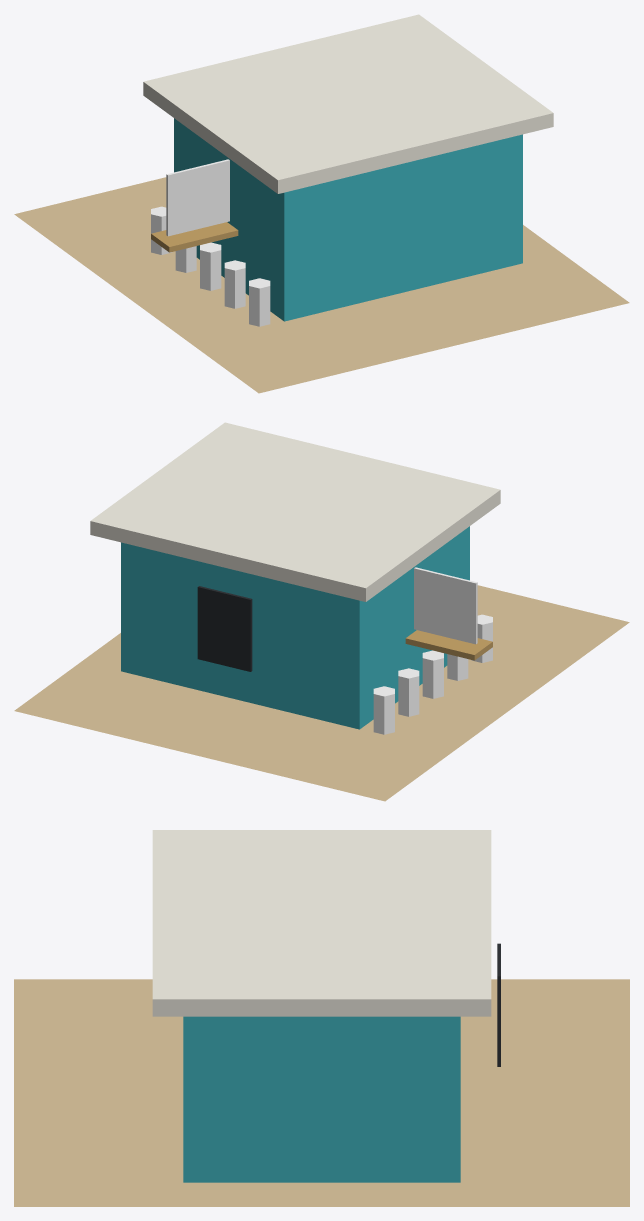
File: eduardos.glb
3 views of the same model, one above another, from view 1: azimuth 30°, elevation 25°; view 2: azimuth 150°, elevation 25°; view 3: azimuth 270°, elevation 25° (orthographic). The views are drawn at different scales.
Parts seen in each view (by area): view 1: eduardos_lod0; view 2: eduardos_lod0; view 3: eduardos_lod0.
Boxes of the visible parts, <box> form: eduardos_lod0: <box>14,14,629,393</box>; eduardos_lod0: <box>14,422,629,801</box>; eduardos_lod0: <box>14,830,629,1206</box>.
Size of what is drawn, in the model's own units: 7 by 2.85 by 8.
